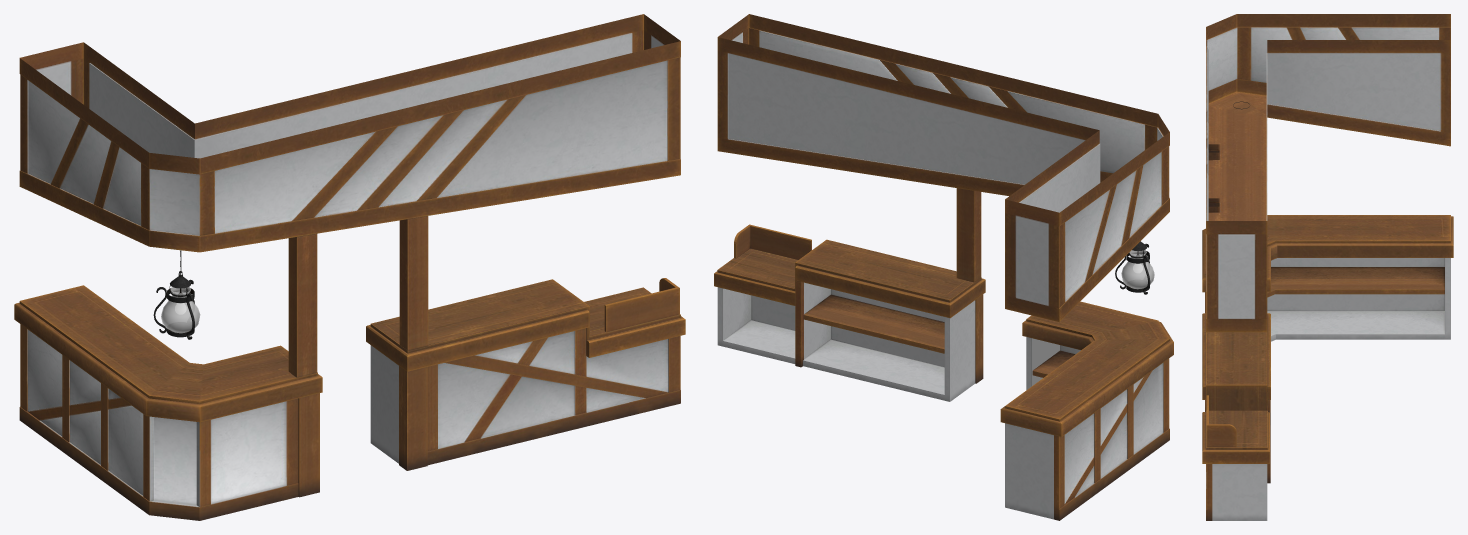
The model's file is beethoven_music_hall_table.glb.
3 renders of one model, left to right at view 1: azimuth 30°, elevation 25°; view 2: azimuth 150°, elevation 25°; view 3: azimuth 270°, elevation 25°, orthographic. The views are drawn at different scales.
Parts seen in each view (by area): view 1: BeethovenTable, LampBase_BeethovenMusicHallLamp_0, Lamp_2_BeethovenMusicHallLamp_Glass_0; view 2: BeethovenTable, Lamp_2_BeethovenMusicHallLamp_Glass_0, LampBase_BeethovenMusicHallLamp_0; view 3: BeethovenTable.
Part boxes in pixels (x1=…): BeethovenTable: x1=14, y1=14, x2=685, y2=520; LampBase_BeethovenMusicHallLamp_0: x1=153, y1=250, x2=194, y2=339; Lamp_2_BeethovenMusicHallLamp_Glass_0: x1=161, y1=287, x2=200, y2=333; BeethovenTable: x1=714, y1=14, x2=1173, y2=520; Lamp_2_BeethovenMusicHallLamp_Glass_0: x1=1121, y1=250, x2=1154, y2=289; LampBase_BeethovenMusicHallLamp_0: x1=1115, y1=241, x2=1150, y2=294; BeethovenTable: x1=1202, y1=14, x2=1453, y2=520.
Size of the model in its own units: 4.05 by 2.7 by 2.05.
3 materials, 3 textured.
